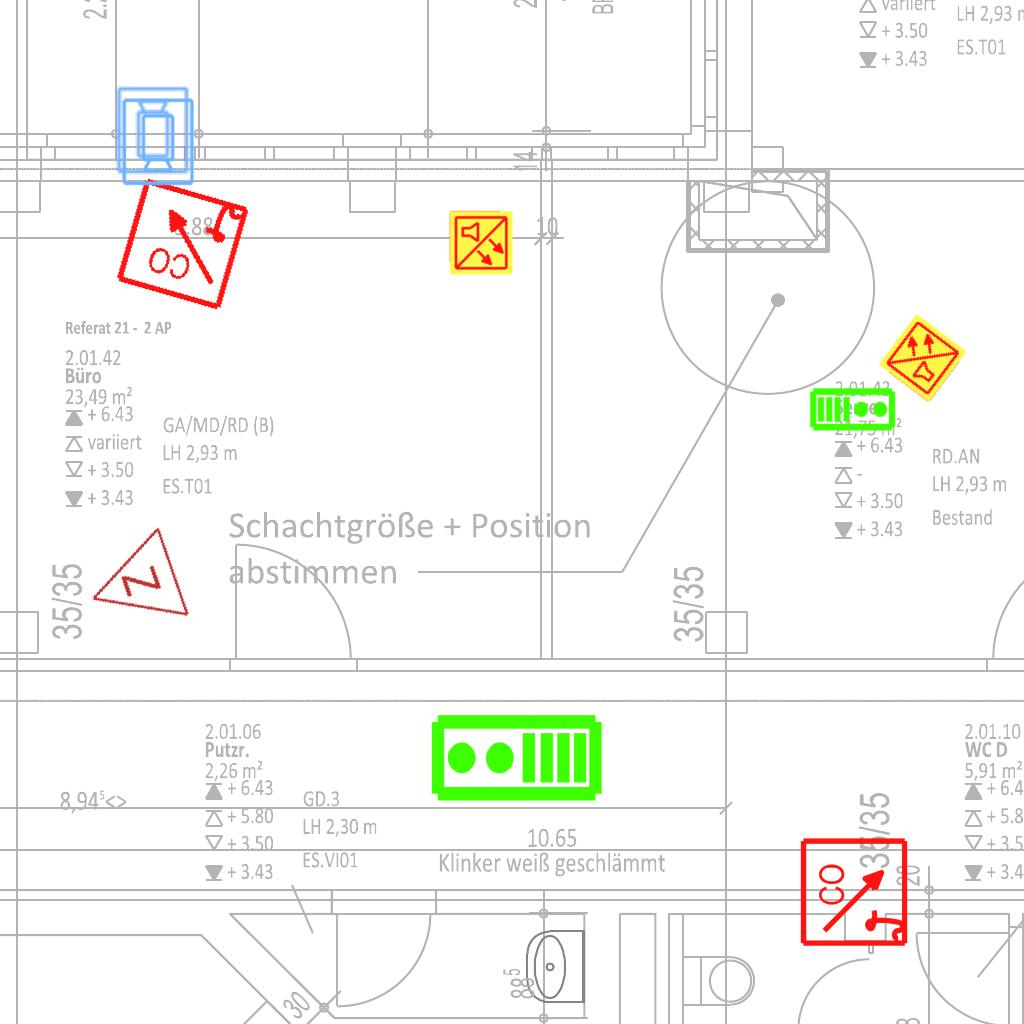Gegensprechanlage_mit_Video: (428, 712, 604, 807), (809, 385, 897, 432)
KFO_Kamera_mit_Festobjektiv: (115, 85, 192, 176), (119, 96, 196, 187)
OKW_Multisensormelder_(Kombination_optischer_Rauch-Kahlenmonoxid_Waerme-Melder): (876, 311, 970, 405), (448, 210, 514, 276)
ROA_Rauchmelder_optisch_mit_Signalgeber_(Sockelsirene): (112, 172, 253, 313), (799, 835, 912, 948)
Zimmersignalleuchte: (70, 523, 198, 649)
